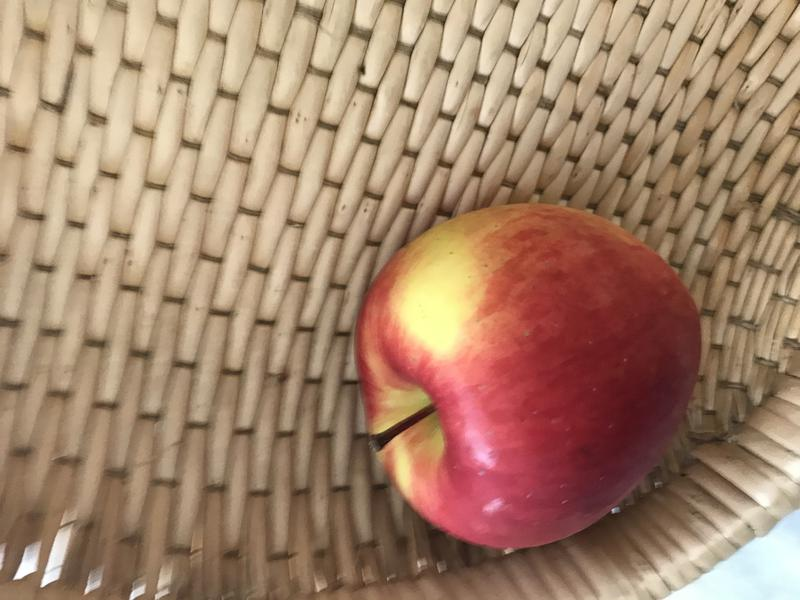red_apple: (338, 194, 707, 560)
